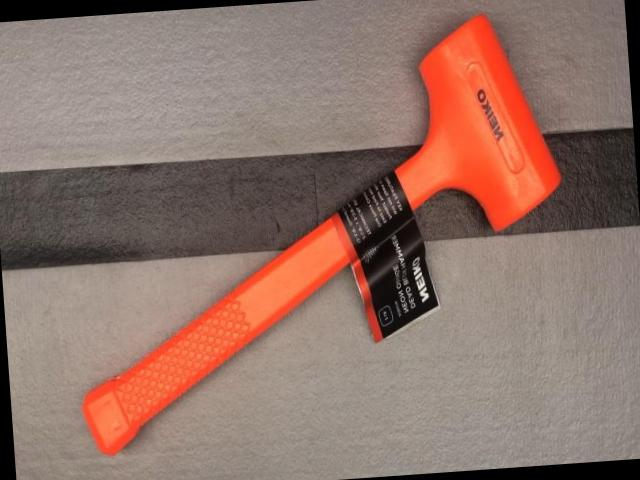hammer: (56, 12, 578, 459)
